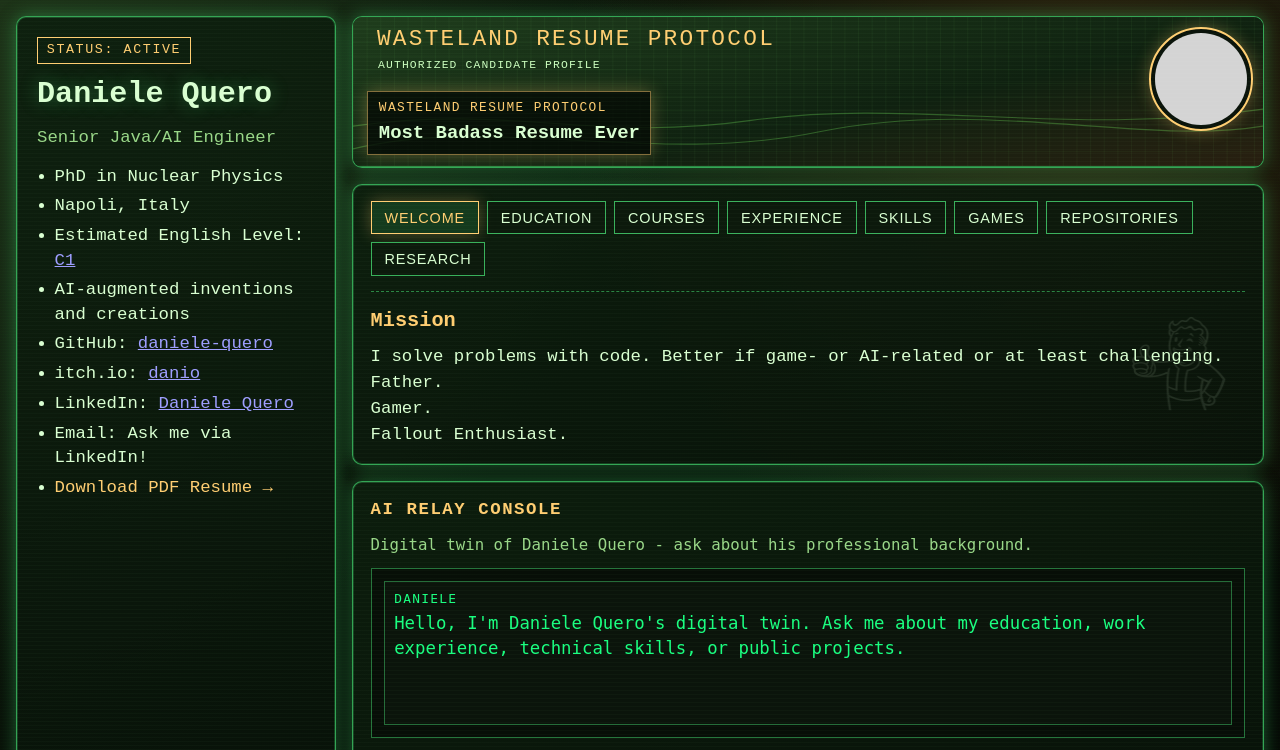
Test: App - chat visibility by active tab › hides chat when switching to another tab
This screenshot has width=1280, height=750.
What coordinates should you click on to do the following:
click the tab "Education"
I would click on:
 (547, 218)
Its box is [487,201,606,234].
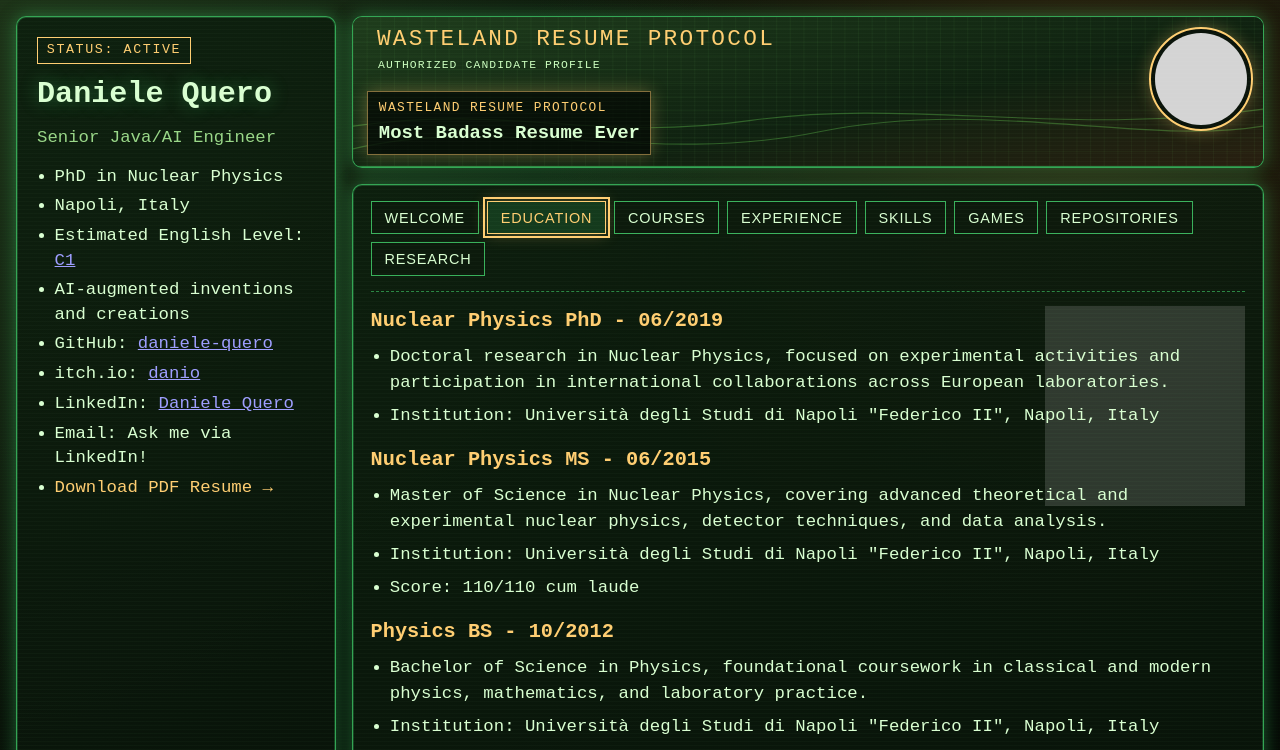
Check: the list "Chat" is gone
